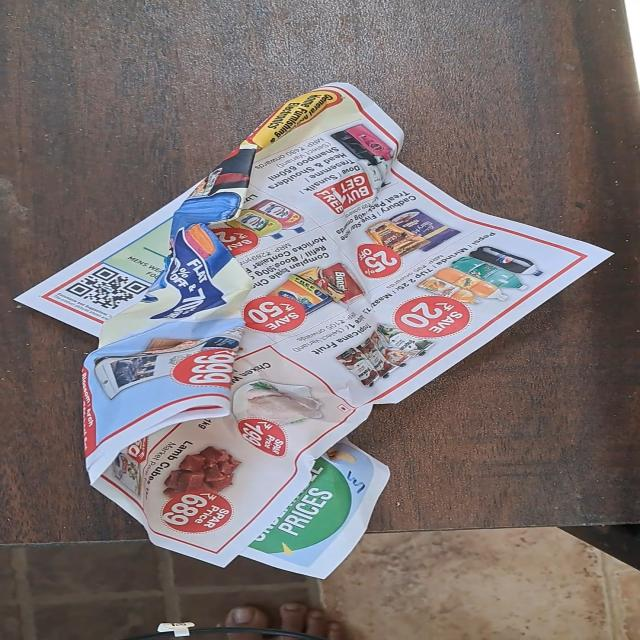Organik: (4, 77, 618, 579)
